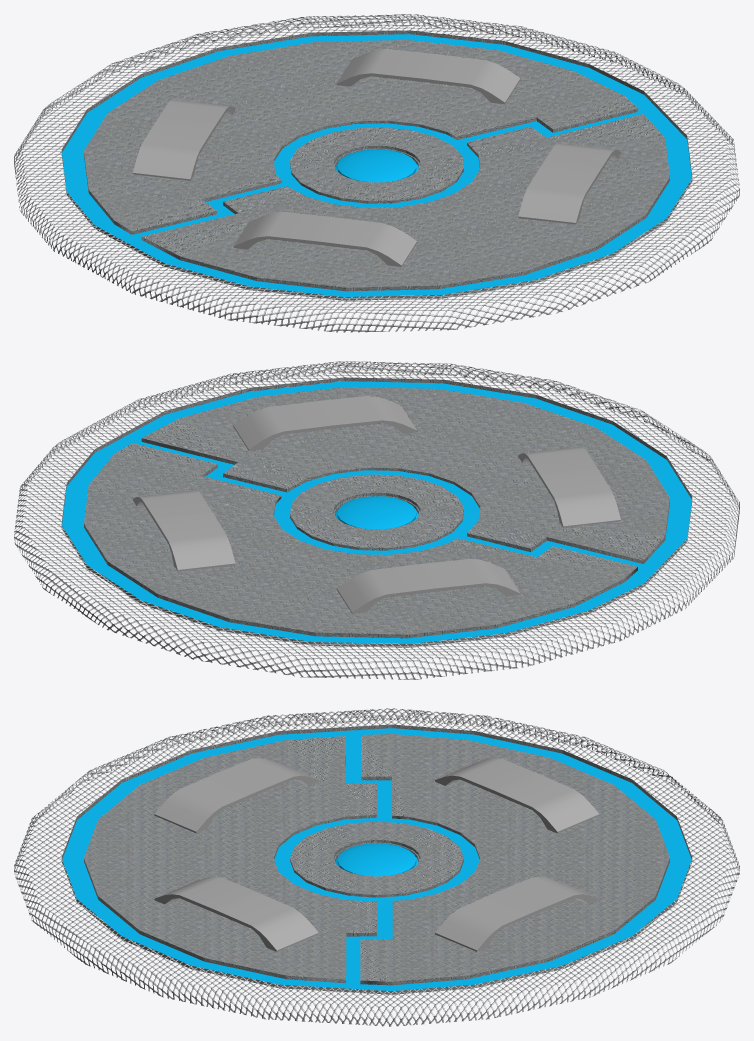
Rendered from floor_is_lava_export_2.fbx.
3 renders of one model, top to bottom at view 1: azimuth 30°, elevation 25°; view 2: azimuth 150°, elevation 25°; view 3: azimuth 270°, elevation 25°, orthographic.
Visible parts, largest first — view 1: pCylinder3; view 2: pCylinder3; view 3: pCylinder3.
Part boxes in pixels (x1,y1,x2,y2): pCylinder3: [14, 14, 739, 332]; pCylinder3: [14, 361, 739, 679]; pCylinder3: [14, 708, 739, 1026].
Size of the model in its own units: 285 by 13.65 by 285.
4 materials, 2 textured.
